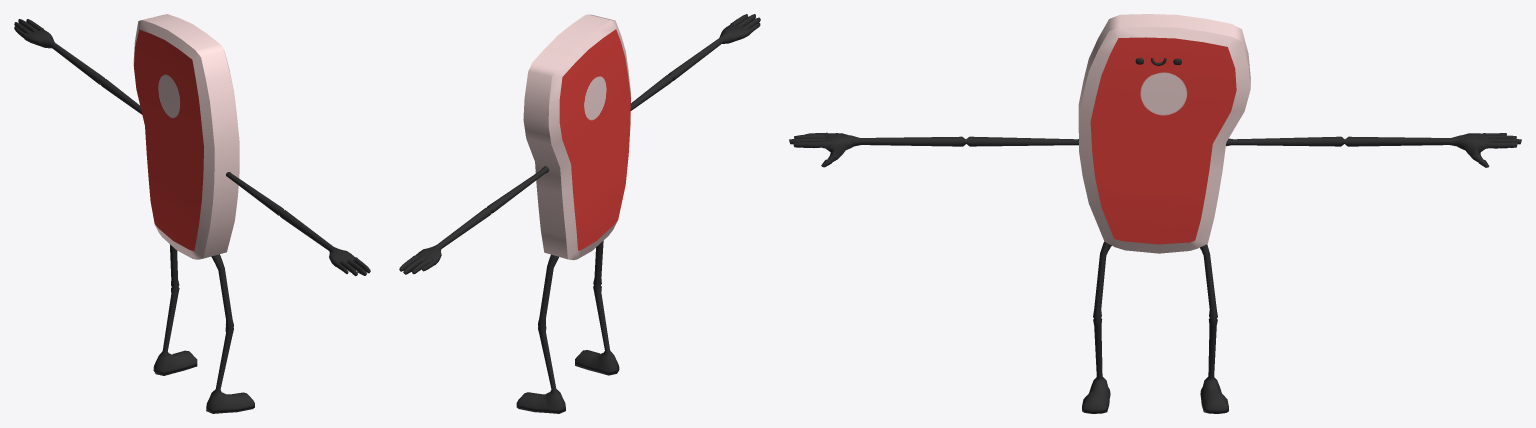
The model's file is Steak Character.glb.
The picture shows the model from 3 angles, left to right: view 1: azimuth 30°, elevation 25°; view 2: azimuth 150°, elevation 25°; view 3: azimuth 270°, elevation 25°; orthographic projection. The views are drawn at different scales.
Visible parts, largest first — view 1: _100Avatars_191_CoolSteak; view 2: _100Avatars_191_CoolSteak; view 3: _100Avatars_191_CoolSteak.
Boxes of the visible parts, bbox=[...] form: _100Avatars_191_CoolSteak: bbox=[14, 14, 370, 413]; _100Avatars_191_CoolSteak: bbox=[399, 14, 760, 413]; _100Avatars_191_CoolSteak: bbox=[789, 14, 1521, 413].
Bounding box in the file's own units: 0.6447 × 4.36 × 7.68.
1 material, 1 textured.
